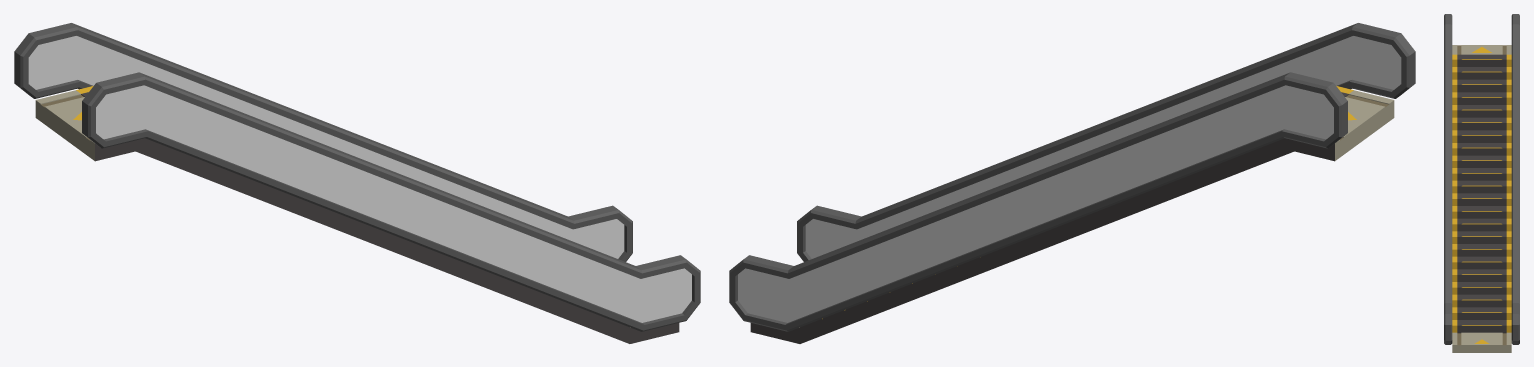
The model's file is Escalator.fbx.
3 renders of one model, left to right at view 1: azimuth 30°, elevation 25°; view 2: azimuth 150°, elevation 25°; view 3: azimuth 270°, elevation 25°, orthographic. The views are drawn at different scales.
Parts seen in each view (by area): view 1: Escalator; view 2: Escalator; view 3: Escalator.
Boxes of the visible parts, <box> form: Escalator: <box>14,23,700,343</box>; Escalator: <box>729,23,1415,343</box>; Escalator: <box>1444,14,1519,352</box>.
Size of the model in its own units: 9.23 by 1.98 by 5.66.
